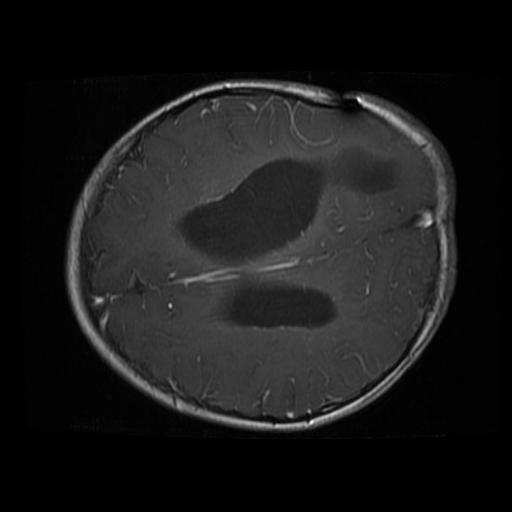glioma: (326, 149, 397, 196)
